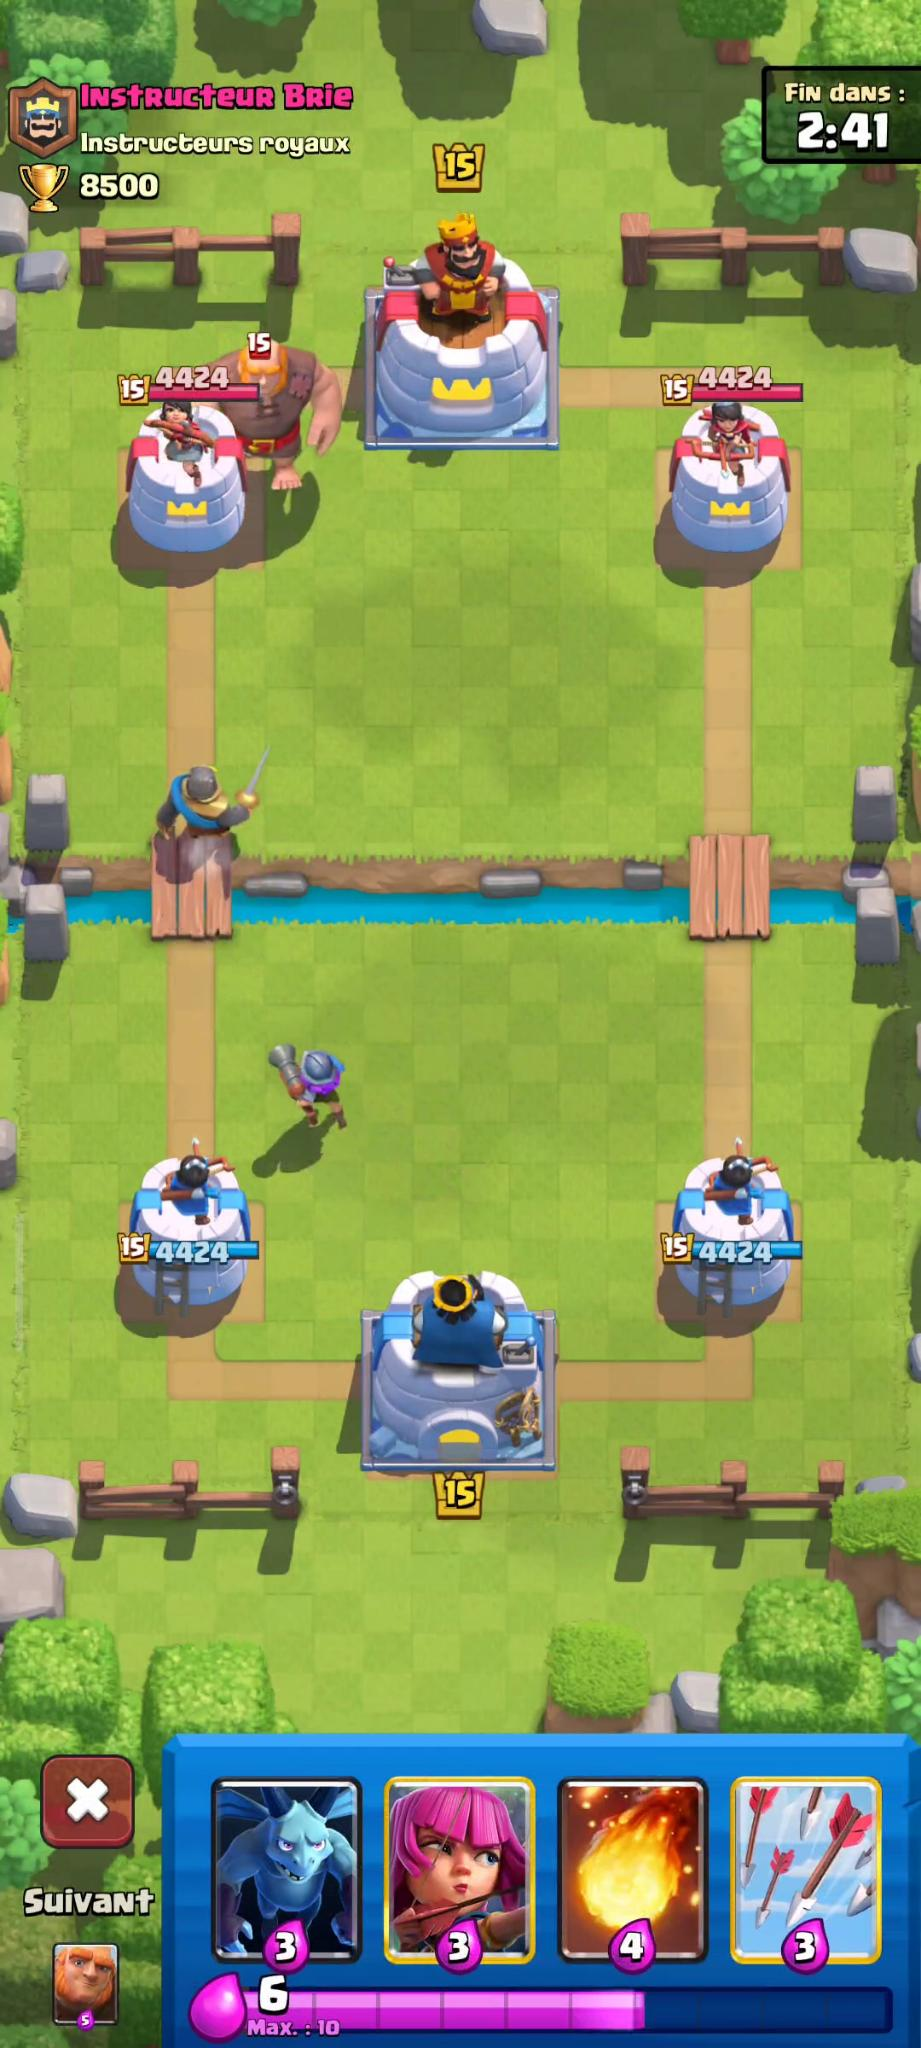chevalier: (140, 725, 287, 874)
geant: (186, 327, 358, 524)
mousquetaire: (270, 1027, 355, 1181)
